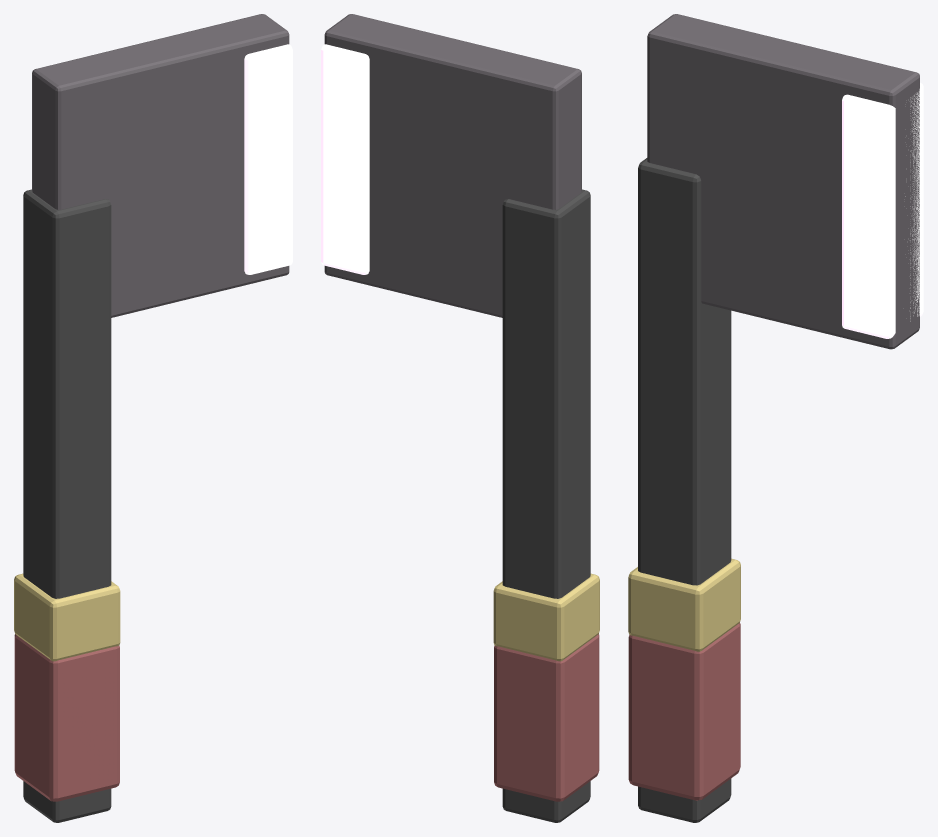
Rendered from weapon_cinderbloom_axe.glb.
3 renders of one model, left to right at view 1: azimuth 30°, elevation 25°; view 2: azimuth 150°, elevation 25°; view 3: azimuth 330°, elevation 25°, orthographic. The views are drawn at different scales.
Visible parts, largest first — view 1: Head, Haft, Grip_wrap, Ember_edge, Gold_band; view 2: Head, Haft, Grip_wrap, Ember_edge, Gold_band; view 3: Head, Haft, Grip_wrap, Ember_edge, Gold_band.
Boxes of the visible parts, <box> form: Head: <box>32,14,289,317</box>; Haft: <box>23,189,111,822</box>; Grip_wrap: <box>14,634,119,801</box>; Ember_edge: <box>244,44,292,274</box>; Gold_band: <box>14,573,120,661</box>; Head: <box>324,14,581,317</box>; Haft: <box>502,189,590,822</box>; Grip_wrap: <box>494,634,599,801</box>; Ember_edge: <box>321,44,369,274</box>; Gold_band: <box>493,573,599,661</box>; Head: <box>647,14,919,349</box>; Haft: <box>638,158,731,822</box>; Grip_wrap: <box>628,622,740,800</box>; Ember_edge: <box>842,82,923,338</box>; Gold_band: <box>628,558,740,651</box>.
Bounding box in the file's own units: 0.21 × 0.6 × 0.06.
